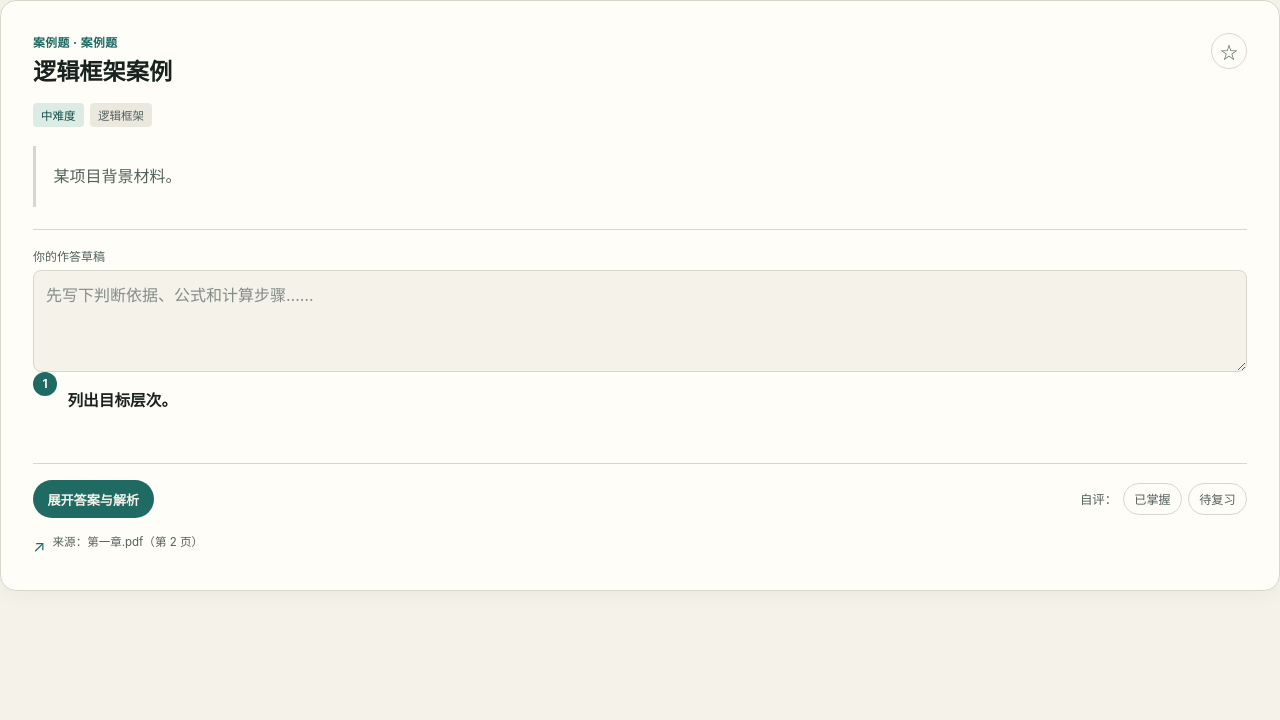
Test: hides answers until the learner reveals them and saves a draft
The width and height of the screenshot is (1280, 720).
Expected: the text "投入、产出、目的、目标。" is not shown
Type "我的答案" into the text box labelled "你的作答草稿" at [640, 321], box [33,270,1247,372]
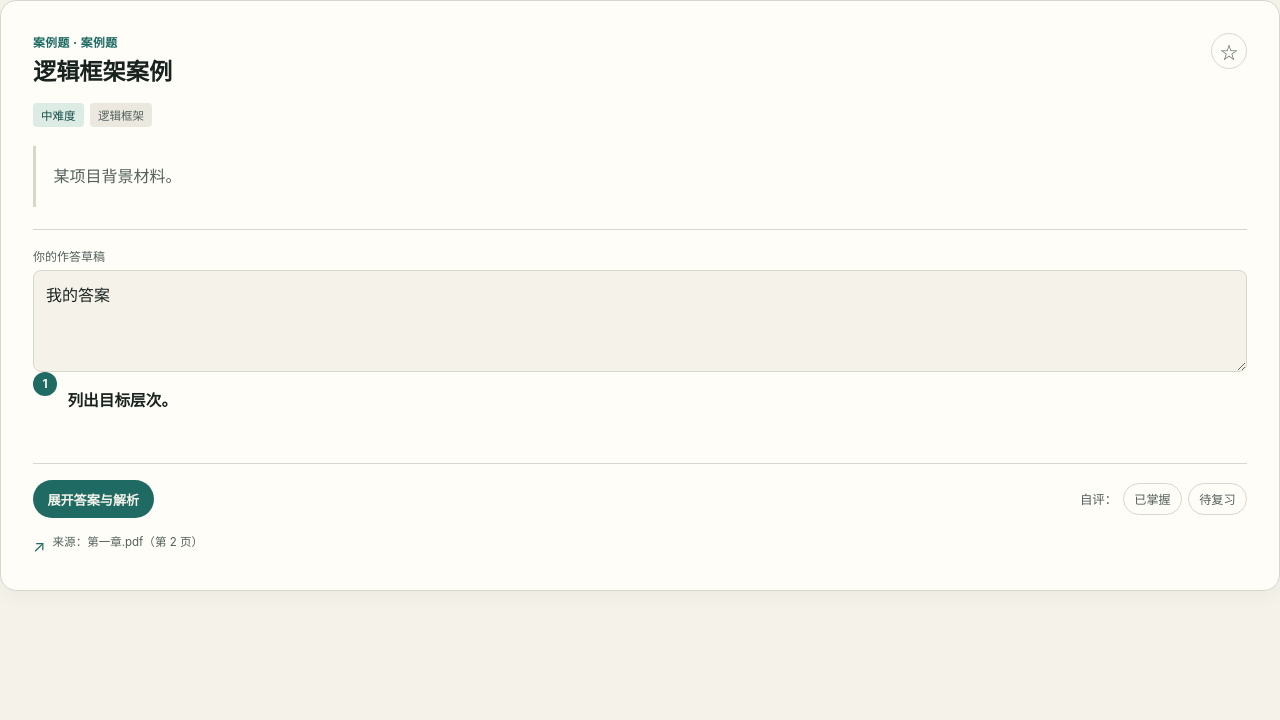
Click the button "展开答案与解析" at [93, 499], box [33,480,154,518]
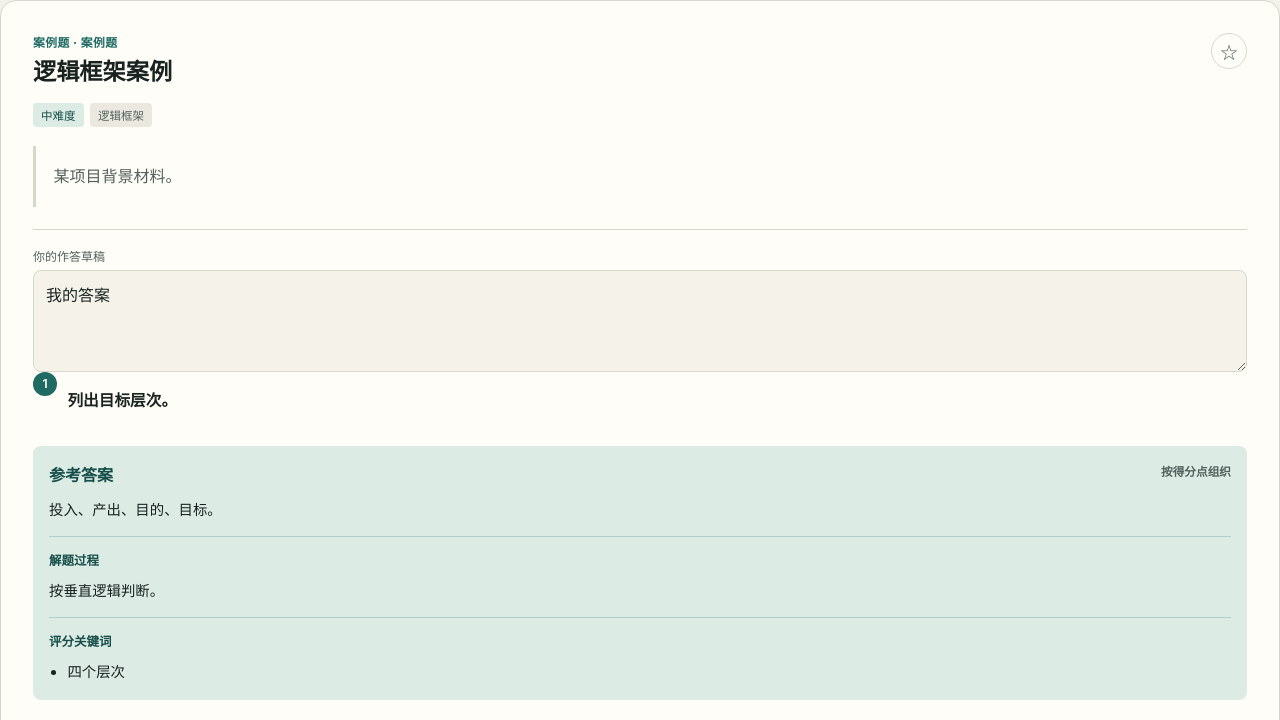
Result: the text "投入、产出、目的、目标。" is shown at [49,501,222,518]
